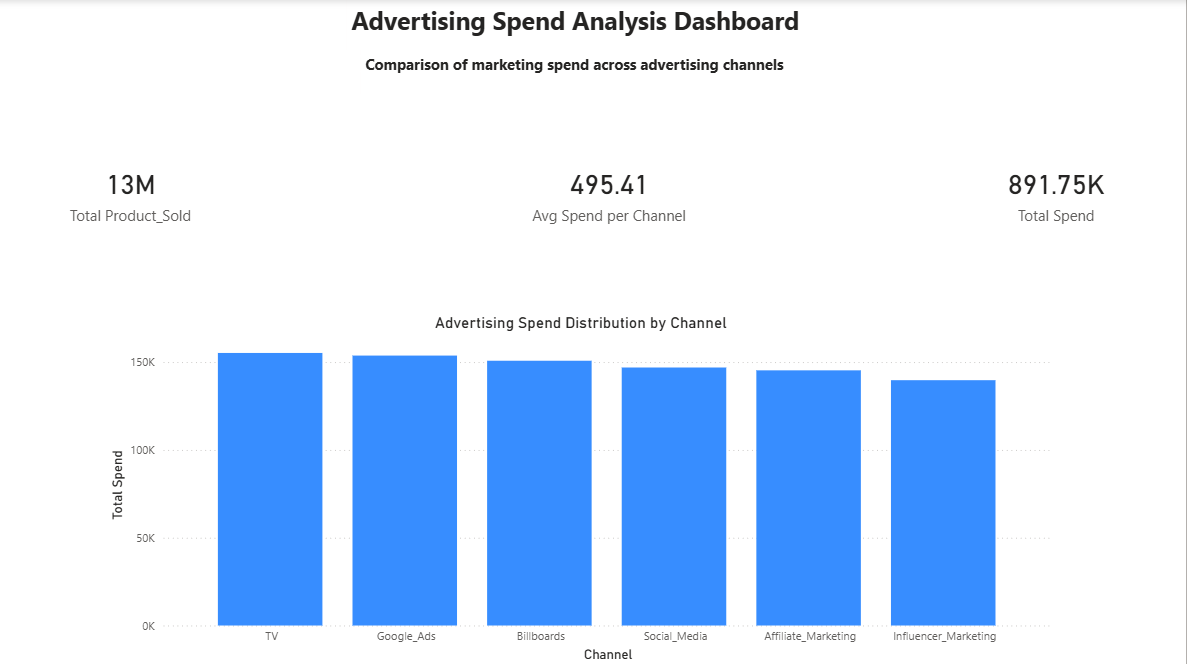

The dashboard page shown, as its layout file describes it:
{"tool":"powerbi","page":{"name":"Page 1","canvas":[1280,720],"ordinal":0},"visuals":[{"type":"card","fields":{"Values":["Advertising_Data.Total Product_Sold"]},"box":[0,103.9,281.4,209.6],"z":0},{"type":"clusteredColumnChart","title":"Advertising Spend Distribution by Channel","fields":{"Category":["Advertising_Data.Attribute"],"Y":["Advertising_Data.Total Spend"]},"box":[113.3,340,1027.5,379.6],"z":4},{"type":"card","fields":{"Values":["Advertising_Data.Total Spend"]},"box":[999.1,103.9,281.4,209.6],"z":5},{"type":"card","fields":{"Values":["Advertising_Data.Avg Spend per Channel"]},"box":[500.5,103.9,313.5,209.6],"z":6},{"type":"textbox","box":[374.6,0,530.7,54.8],"z":7},{"type":"textbox","box":[389.1,54.8,502.4,47.2],"z":8}]}

Visuals, with their boxes in screenshot pixels (x1, y1, x2, y2), scaled from the page's 1280x720 canvas onto the 1187x664 screenshot:
card - Advertising_Data.Total Product_Sold: [0, 96, 261, 289]
"Advertising Spend Distribution by Channel" clusteredColumnChart: [105, 314, 1058, 663]
card - Advertising_Data.Total Spend: [927, 96, 1186, 289]
card - Advertising_Data.Avg Spend per Channel: [464, 96, 755, 289]
textbox: [347, 0, 840, 51]
textbox: [361, 51, 827, 94]
